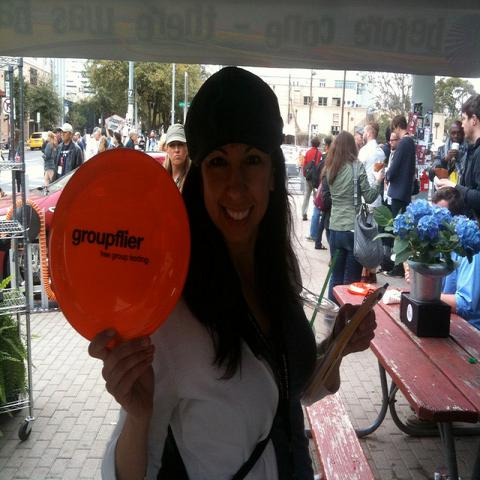car: (0, 151, 166, 233), (29, 132, 48, 151)
